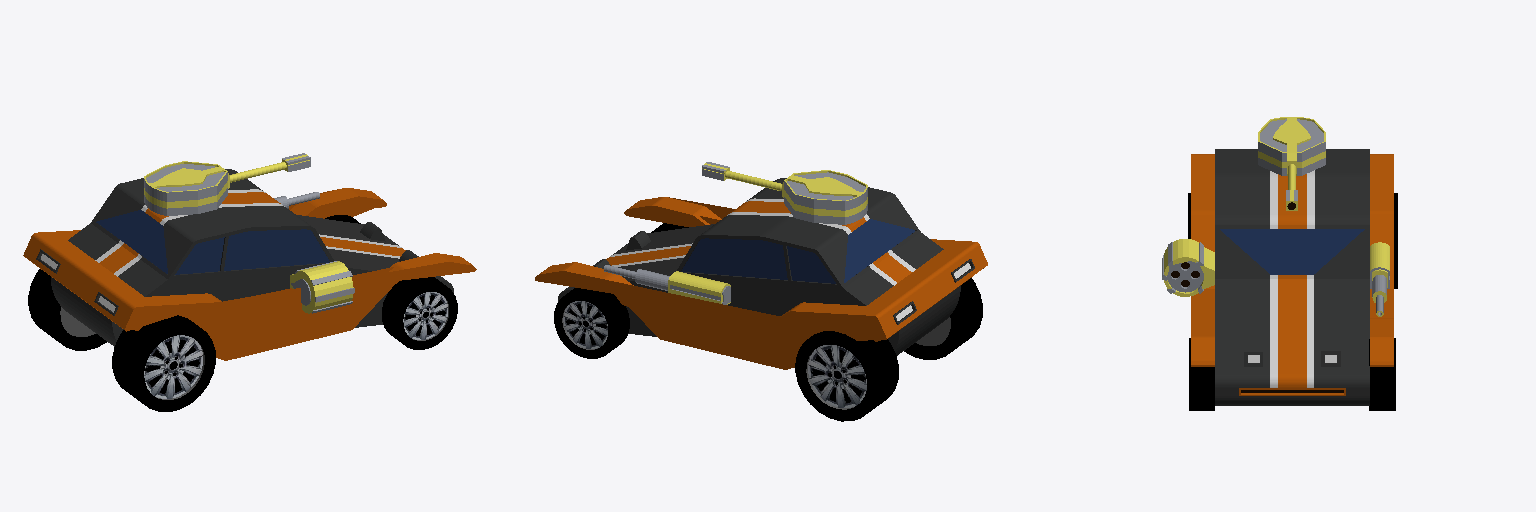
3 views of the same model, side by side, from view 1: azimuth 30°, elevation 25°; view 2: azimuth 150°, elevation 25°; view 3: azimuth 270°, elevation 25° (orthographic).
Parts seen in each view (by area): view 1: Mesh1 Group3 Group2 Group1 Model, Mesh8 skp7EDE2 Model, Mesh5 skpC269_1 Model, Mesh10 skp7EDE3 Model, Mesh2 skpBB00_1 Group2 Group1 Model, Mesh6 skp7EDE1 Model; view 2: Mesh1 Group3 Group2 Group1 Model, Mesh6 skp7EDE1 Model, Mesh5 skpC269_1 Model, Mesh12 skp7EDE4 Model, Mesh8 skp7EDE2 Model, Mesh3 skp5516_1 Group1 Model; view 3: Mesh1 Group3 Group2 Group1 Model, Mesh5 skpC269_1 Model, Mesh2 skpBB00_1 Group2 Group1 Model, Mesh12 skp7EDE4 Model, Mesh3 skp5516_1 Group1 Model, Mesh10 skp7EDE3 Model.
Boxes of the visible parts, <box> form: Mesh1 Group3 Group2 Group1 Model: <box>23,169,476,360</box>; Mesh8 skp7EDE2 Model: <box>112,315,215,411</box>; Mesh5 skpC269_1 Model: <box>144,161,286,215</box>; Mesh10 skp7EDE3 Model: <box>382,277,457,349</box>; Mesh2 skpBB00_1 Group2 Group1 Model: <box>290,261,354,313</box>; Mesh6 skp7EDE1 Model: <box>28,269,106,350</box>; Mesh1 Group3 Group2 Group1 Model: <box>535,178,987,369</box>; Mesh6 skp7EDE1 Model: <box>795,331,898,421</box>; Mesh5 skpC269_1 Model: <box>725,170,867,224</box>; Mesh12 skp7EDE4 Model: <box>554,288,629,358</box>; Mesh8 skp7EDE2 Model: <box>904,278,982,359</box>; Mesh3 skp5516_1 Group1 Model: <box>604,265,730,304</box>; Mesh1 Group3 Group2 Group1 Model: <box>1191,149,1393,405</box>; Mesh5 skpC269_1 Model: <box>1258,117,1325,189</box>; Mesh2 skpBB00_1 Group2 Group1 Model: <box>1162,239,1214,296</box>; Mesh12 skp7EDE4 Model: <box>1369,338,1395,410</box>; Mesh3 skp5516_1 Group1 Model: <box>1370,242,1389,316</box>; Mesh10 skp7EDE3 Model: <box>1189,338,1214,410</box>.
Bounding box in the file's own units: 16.83 × 8.25 × 9.73.
14 materials, 1 textured.